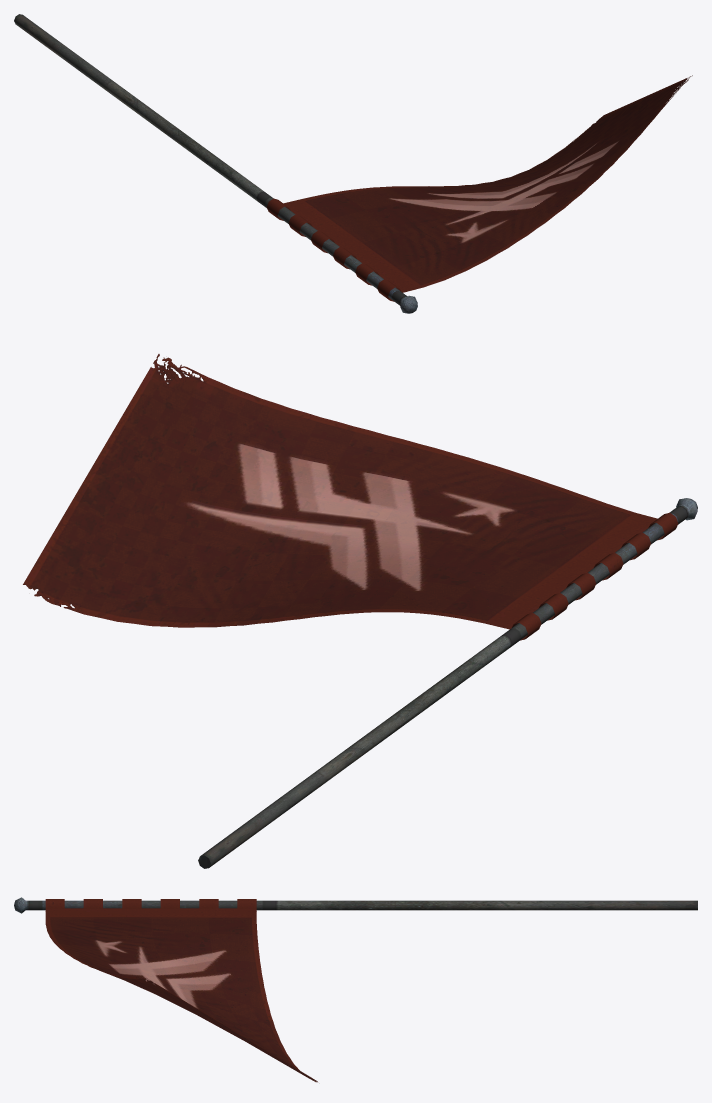
Rendered from mp_flag_axis_1_LOD0.obj.
3 renders of one model, top to bottom at view 1: azimuth 30°, elevation 25°; view 2: azimuth 150°, elevation 25°; view 3: azimuth 270°, elevation 25°, orthographic. The views are drawn at different scales.
Parts seen in each view (by area): view 1: mtl_flag_axis_1, mtl_mp_flag_base; view 2: mtl_flag_axis_1, mtl_mp_flag_base; view 3: mtl_flag_axis_1, mtl_mp_flag_base.
Boxes of the visible parts, x1,y1,x2,y2 form: mtl_flag_axis_1: [266, 75, 692, 301]; mtl_mp_flag_base: [14, 14, 417, 313]; mtl_flag_axis_1: [23, 354, 678, 640]; mtl_mp_flag_base: [198, 498, 697, 868]; mtl_flag_axis_1: [45, 899, 317, 1082]; mtl_mp_flag_base: [14, 897, 697, 913].
Size of the model in its own units: 116 by 44.12 by 212.
